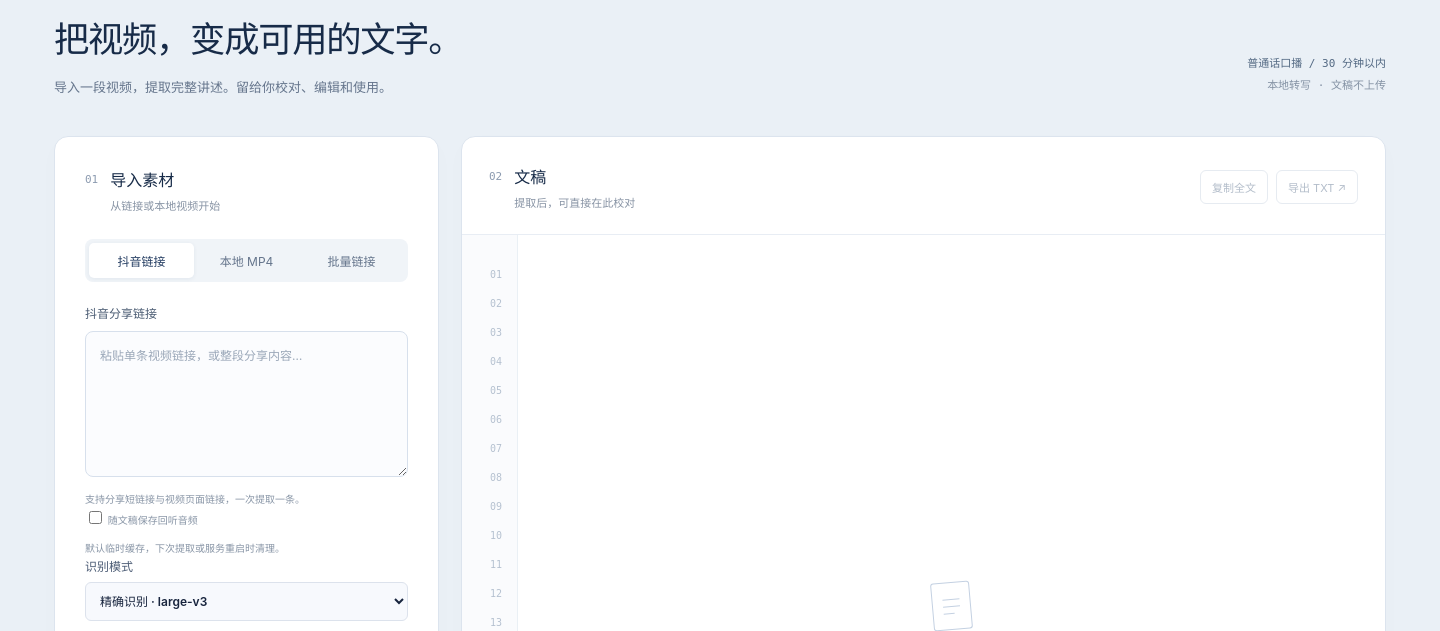
Test: 本地文案工作台 › shows API detail errors and permits resubmitting the retained input
The width and height of the screenshot is (1440, 631).
Type "https://v.douyin.com/abc/" into the text box labelled "抖音分享链接" at (246, 404), box [85,331,408,477]
(page scrolled)
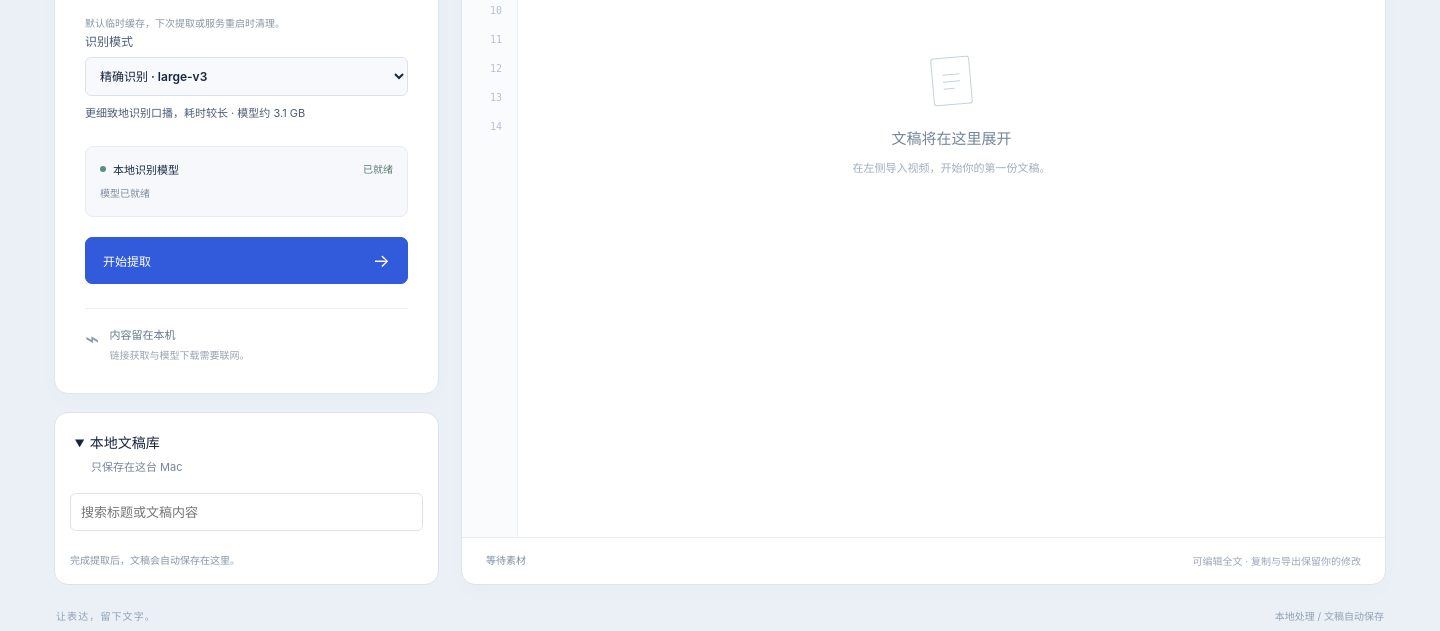
Click the button "开始提取 →" at (127, 262), box [85,237,408,284]
(page scrolled)
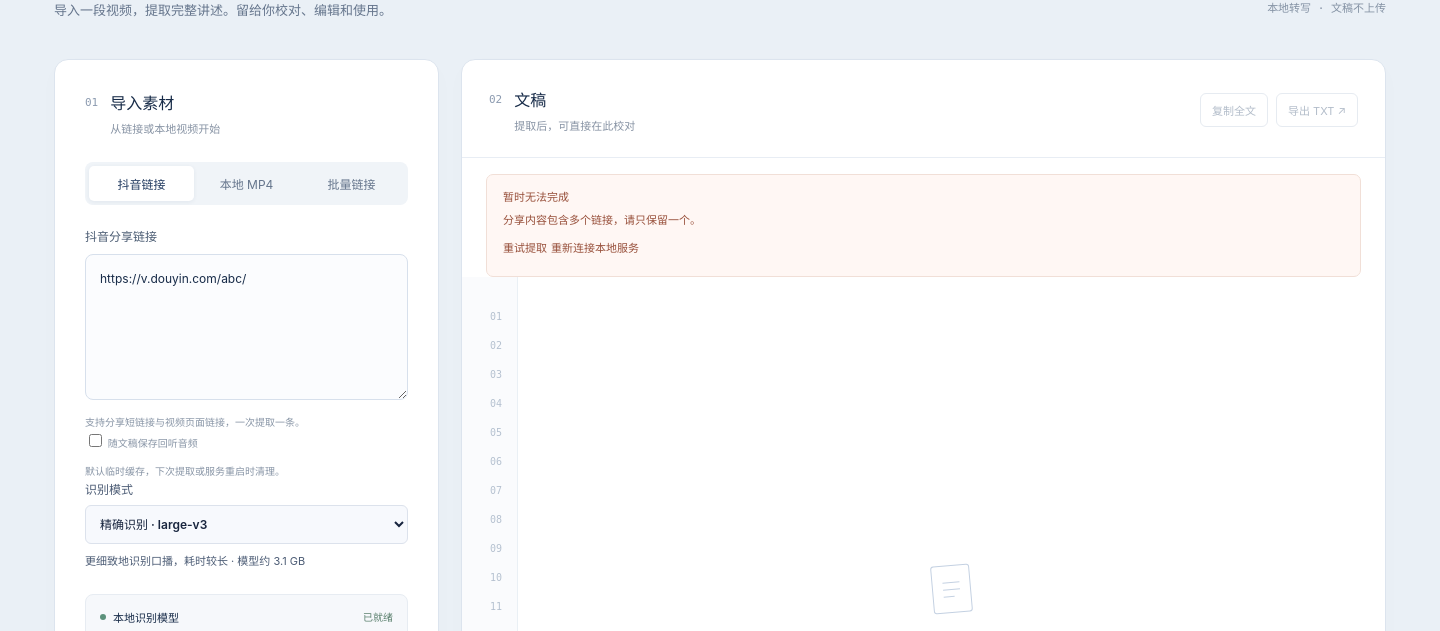
Expected: the message shows "分享内容包含多个链接，请只保留一个。", [503,213,701,227]
Click the button "重试提取" at (527, 248), box [503,234,551,263]
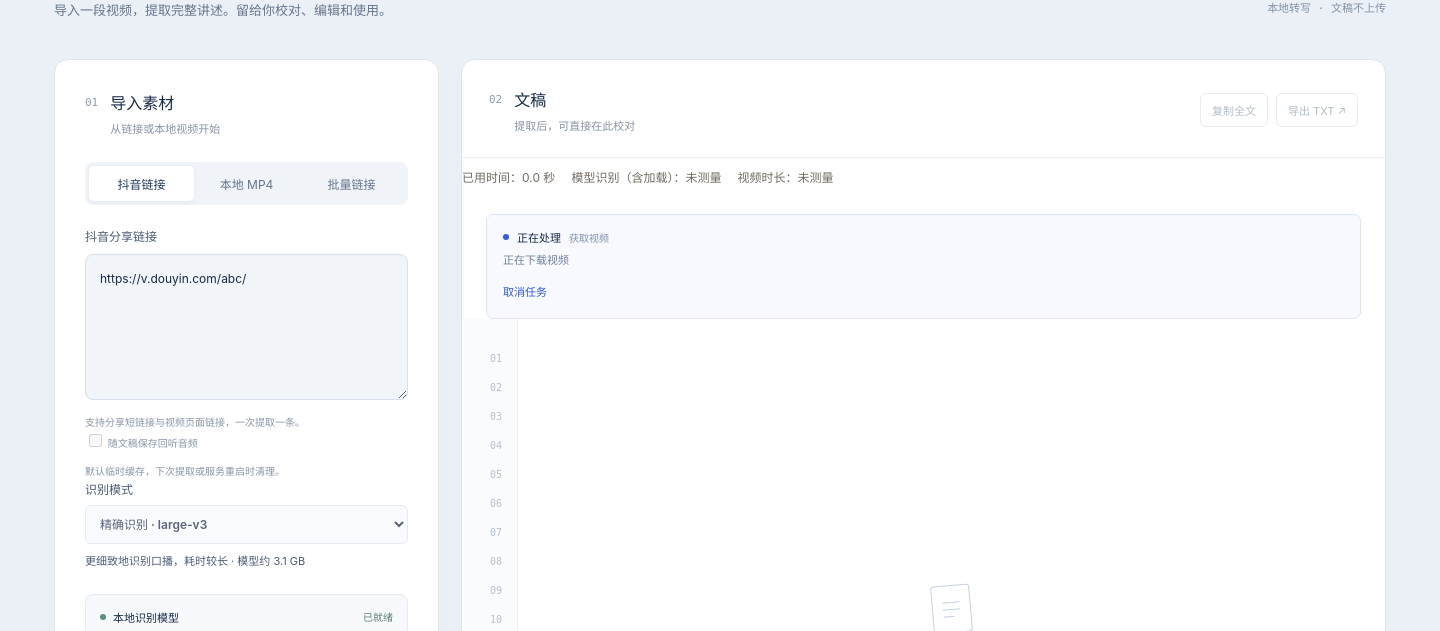
Expected: the button "取消任务" is enabled, [503,278,551,304]
